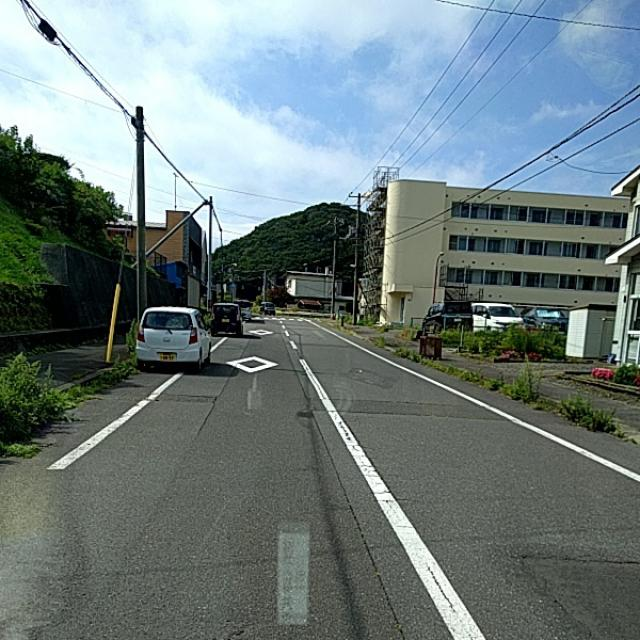pothole: (319, 446, 453, 639)
